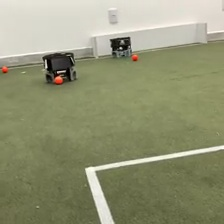ball: (53, 73, 64, 85), (130, 52, 139, 61), (1, 64, 9, 73)
goal: (89, 19, 210, 59)
robot: (40, 48, 78, 84), (108, 35, 133, 59)
